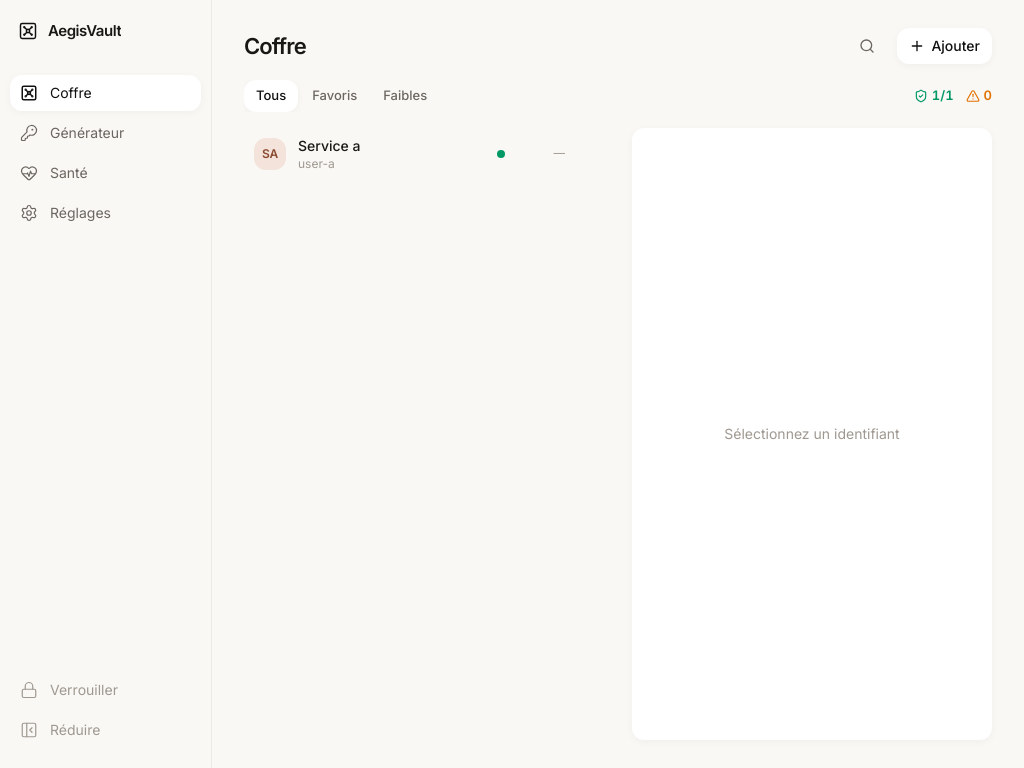
Test case: MainLayout empty states › offers to reset the filter when a filter matches nothing
The image size is (1024, 768).
Click the button "Favoris": (335, 96) x1=300 y1=80 x2=369 y2=112
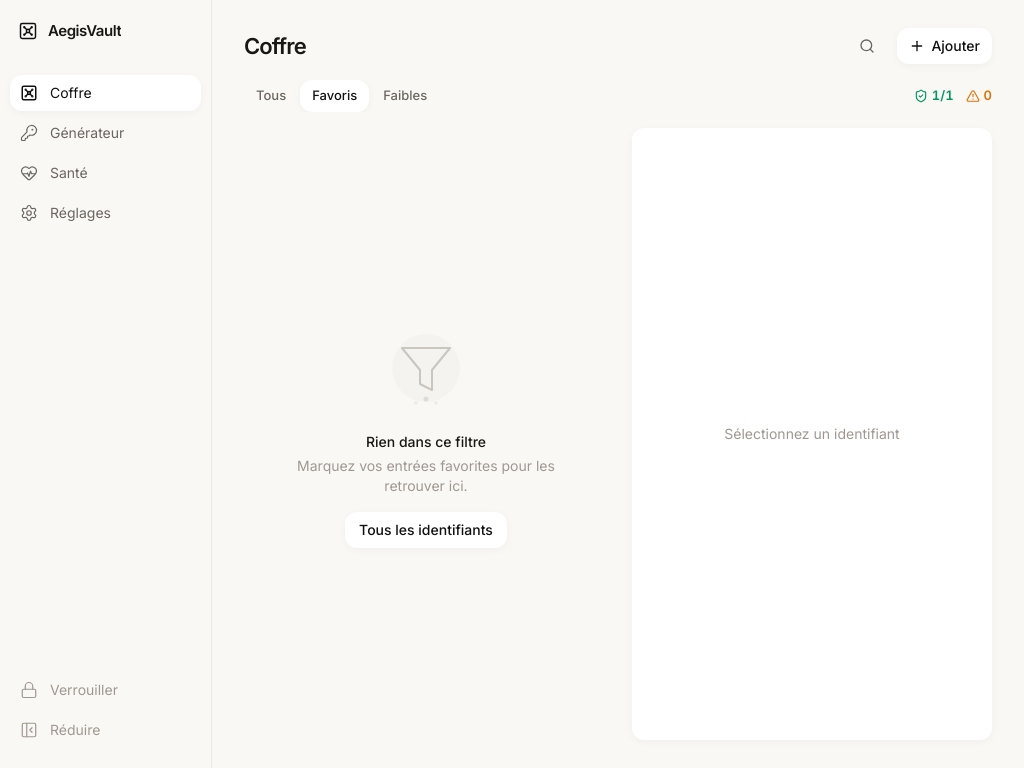
Now the text "Rien dans ce filtre" is shown, box x1=366 y1=432 x2=486 y2=452
Click the button "Tous les identifiants": (426, 530) x1=345 y1=512 x2=507 y2=548
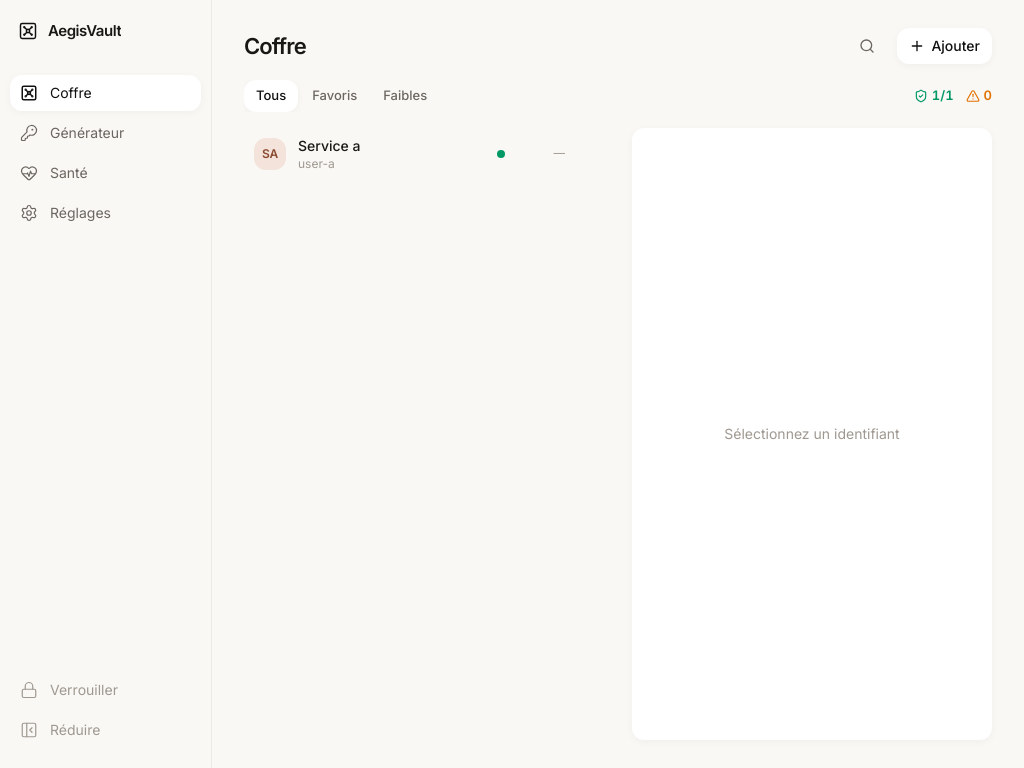
Now the text "Service a" is shown, box x1=298 y1=136 x2=360 y2=154
